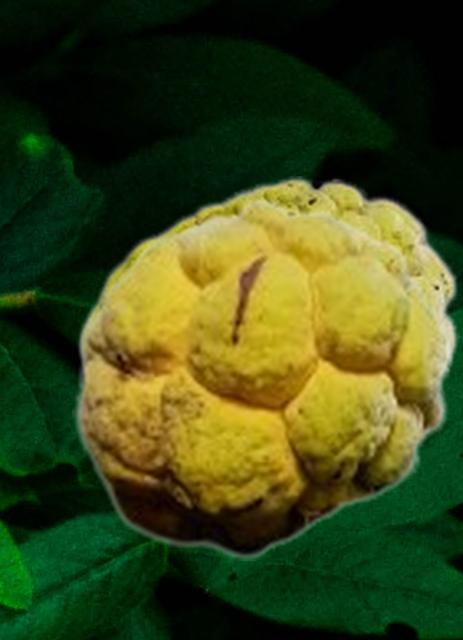atis: (72, 197, 454, 559), (76, 176, 458, 450)
